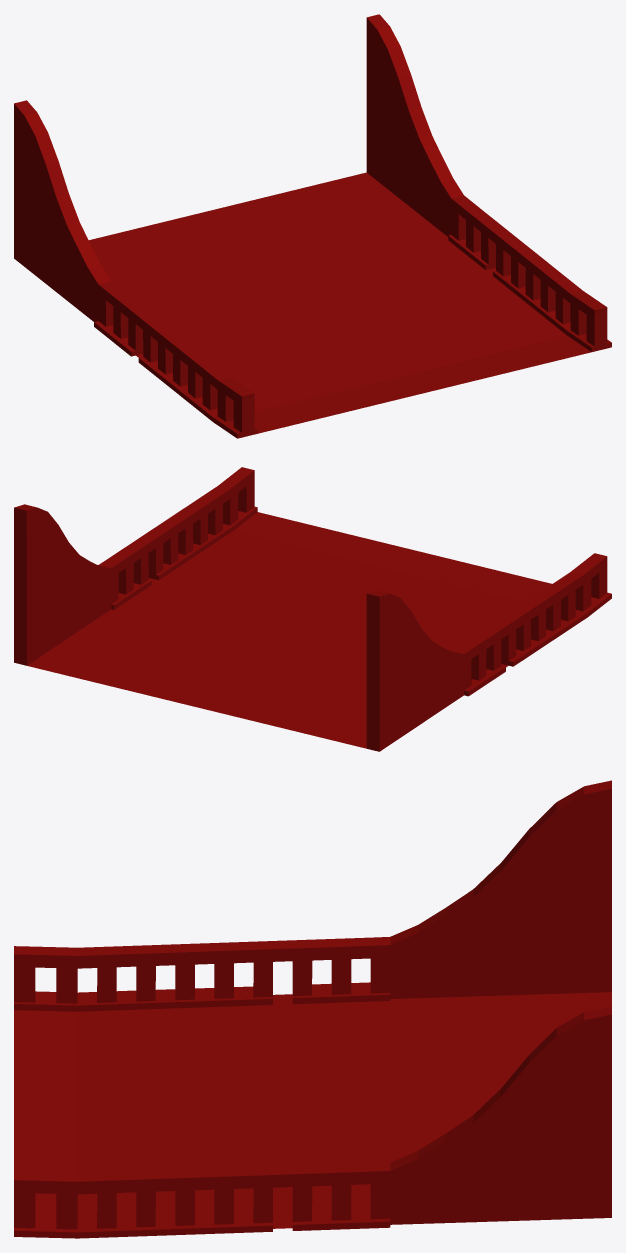
The model's file is Rojo8.fbx.
3 views of the same model, one above another, from view 1: azimuth 30°, elevation 25°; view 2: azimuth 150°, elevation 25°; view 3: azimuth 270°, elevation 25° (orthographic). The views are drawn at different scales.
Parts seen in each view (by area): view 1: cubiertaLateral_Rojo; view 2: cubiertaLateral_Rojo; view 3: cubiertaLateral_Rojo.
Boxes of the visible parts, x1=… form: cubiertaLateral_Rojo: x1=14, y1=14, x2=611, y2=438; cubiertaLateral_Rojo: x1=14, y1=467, x2=611, y2=751; cubiertaLateral_Rojo: x1=14, y1=780, x2=611, y2=1238.
Bounding box in the file's own units: 2.15 × 0.9262 × 2.27.
